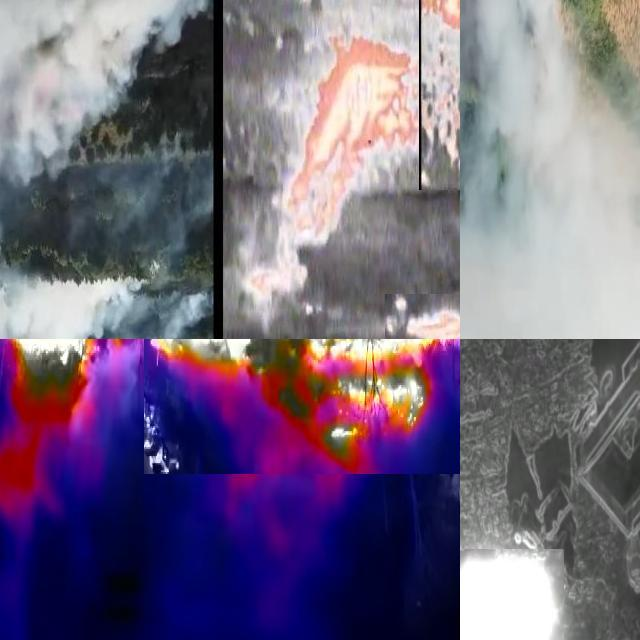fire: (144, 340, 461, 474), (283, 33, 422, 245), (1, 340, 137, 446), (461, 549, 564, 640), (419, 1, 461, 190), (385, 294, 461, 340), (246, 257, 308, 303)
